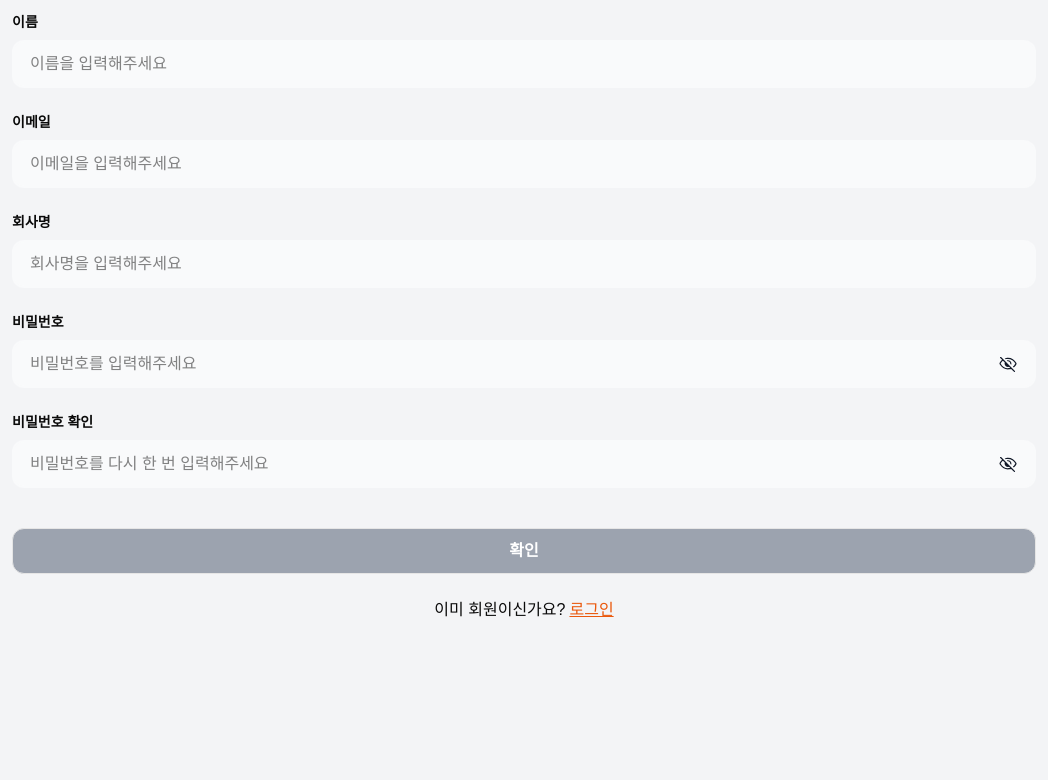
SignupForm 통합 테스트 › 이메일 형식이 맞지 않으면 "이메일 형식이 올바르지 않습니다"라는 에러 메시지가 표시된다 › 입력 후 포커스 이동 (blur)
In the field labelled "이메일": x=524, y=164 x1=30 y1=152 x2=1018 y2=176, type "viscacha@"
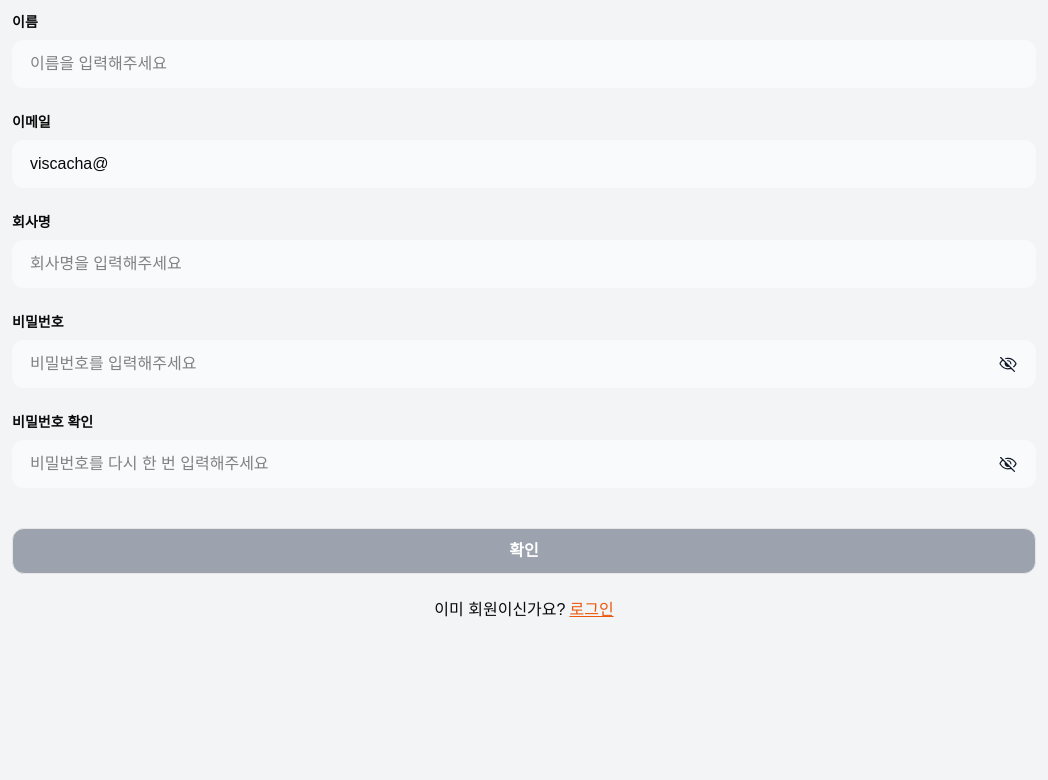
Leave the field labelled "이메일", box x1=30 y1=152 x2=1018 y2=176
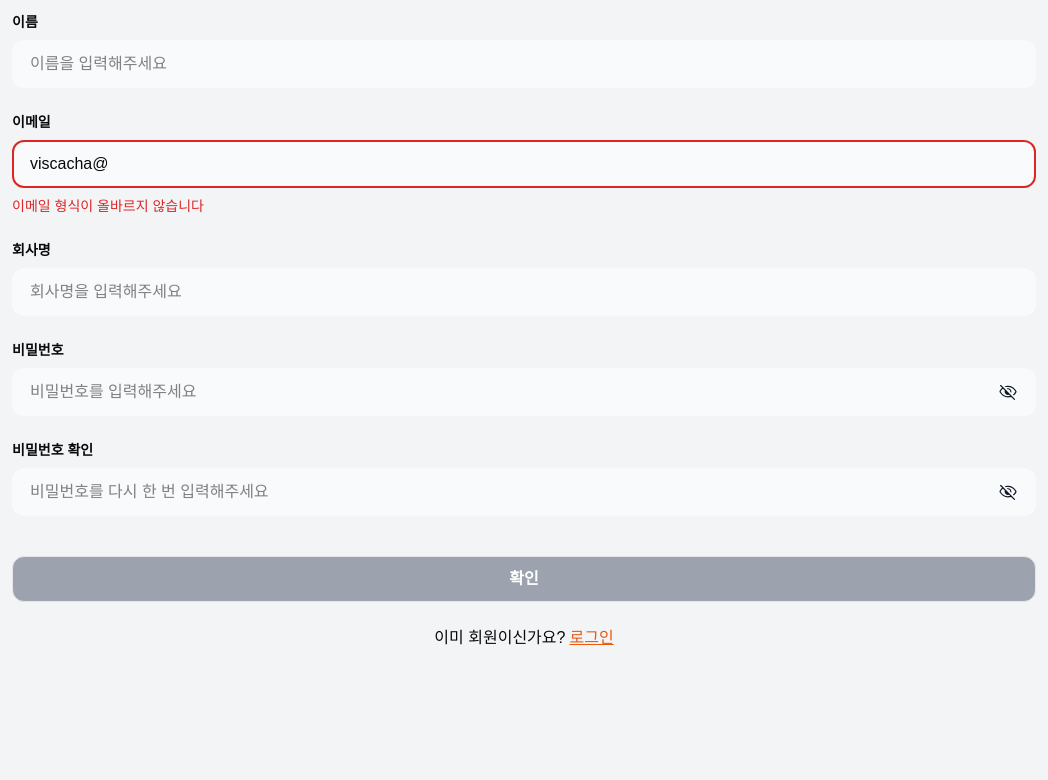
Check: the text "이메일 형식이 올바르지 않습니다" is shown, box x1=12 y1=198 x2=204 y2=214
